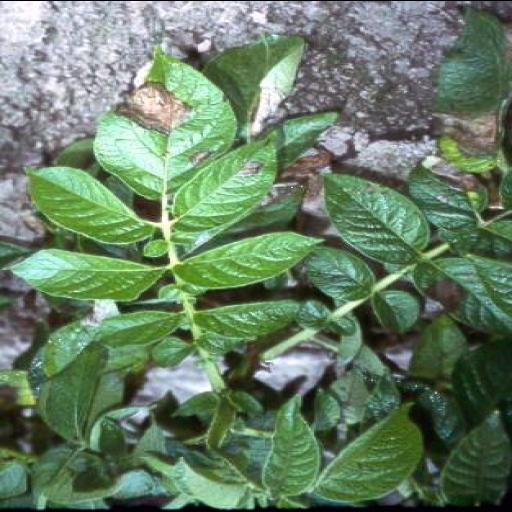Late Blight: (95, 46, 247, 198), (419, 4, 512, 176)
